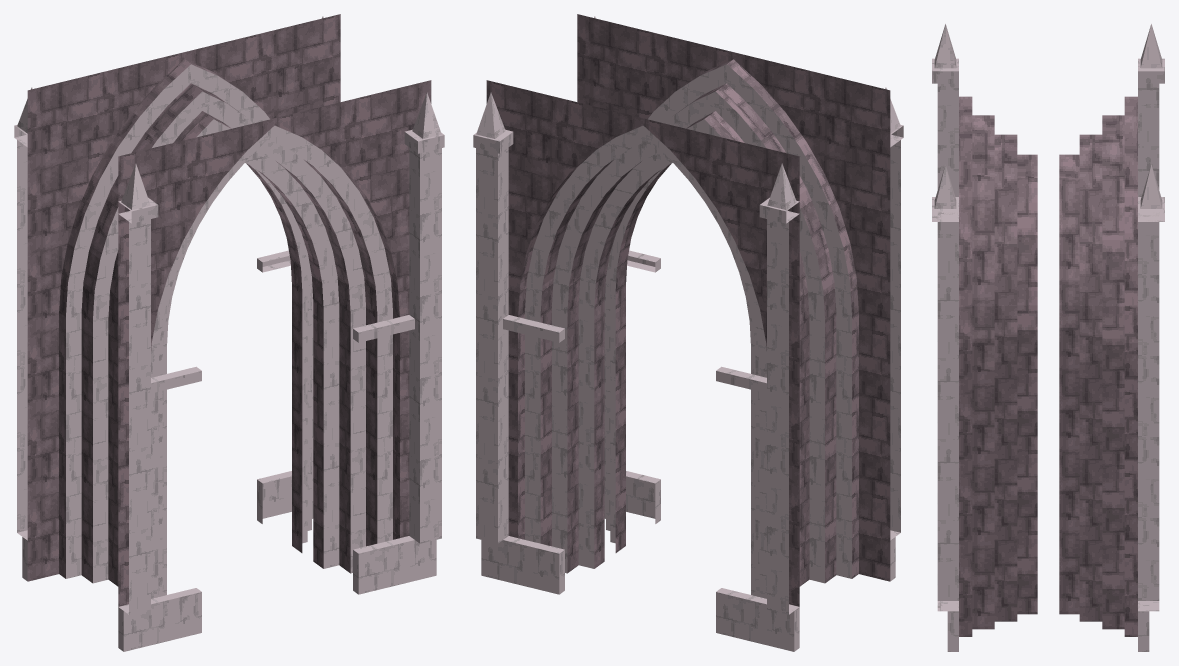
File: bosstor_gross_a_portal.glb
3 views of the same model, side by side, from view 1: azimuth 30°, elevation 25°; view 2: azimuth 150°, elevation 25°; view 3: azimuth 270°, elevation 25° (orthographic).
Parts seen in each view (by area): view 1: portal_front, portal_back; view 2: portal_back, portal_front; view 3: portal_back, portal_front.
Boxes of the visible parts, x1,y1,x2,y2 form: portal_front: (118, 80, 444, 651); portal_back: (14, 14, 340, 586); portal_back: (473, 80, 799, 651); portal_front: (577, 14, 903, 586); portal_back: (1059, 24, 1164, 651); portal_front: (932, 24, 1037, 651).
Bounding box in the file's own units: 4 × 6 × 2.6.
Materials: 1 (1 with a texture image).
